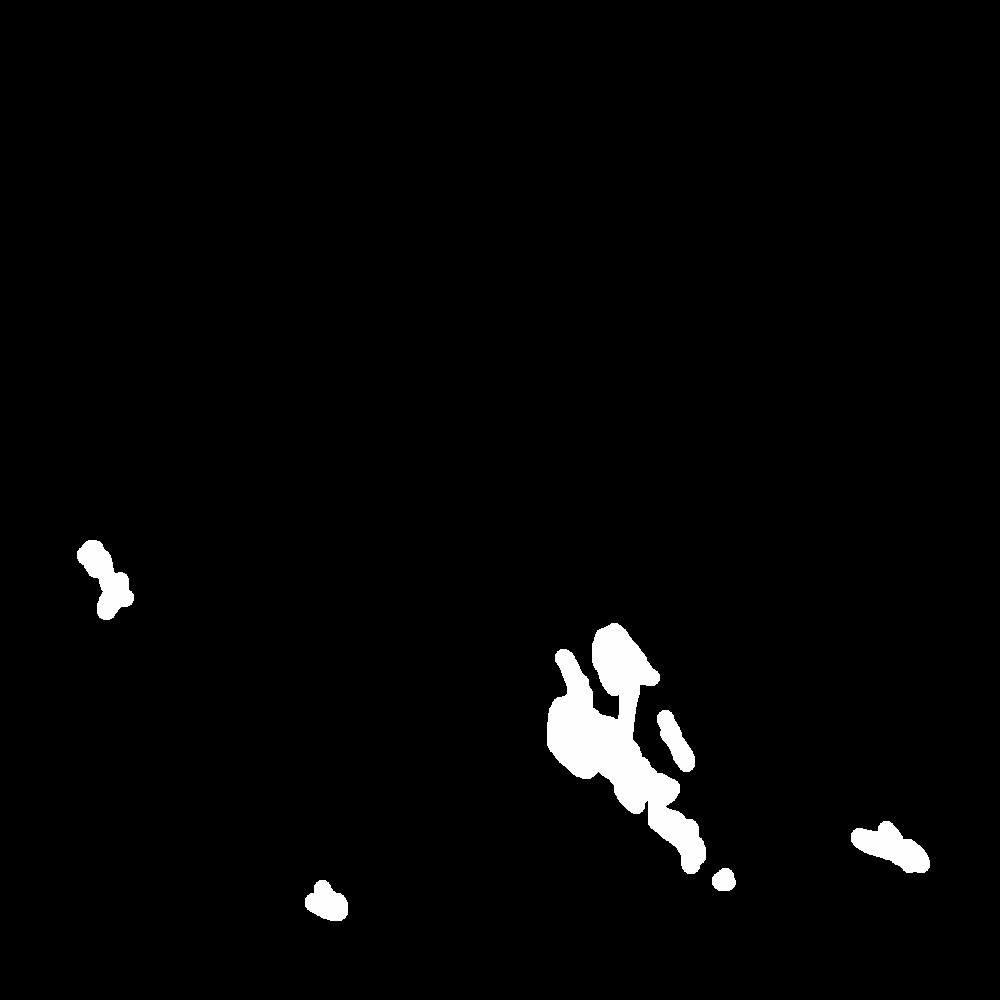illegal: (530, 617, 731, 889), (279, 685, 407, 1000), (790, 792, 984, 976), (7, 889, 167, 959), (74, 542, 129, 648), (479, 702, 506, 727)
